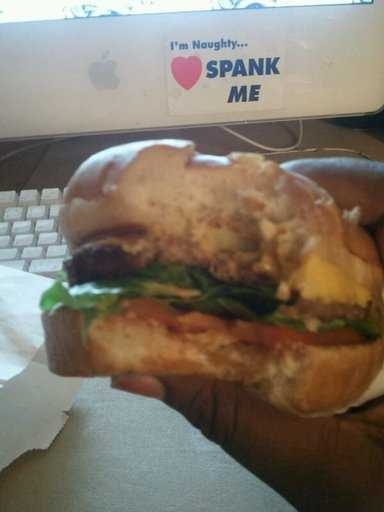hamburger: (53, 140, 375, 394)
